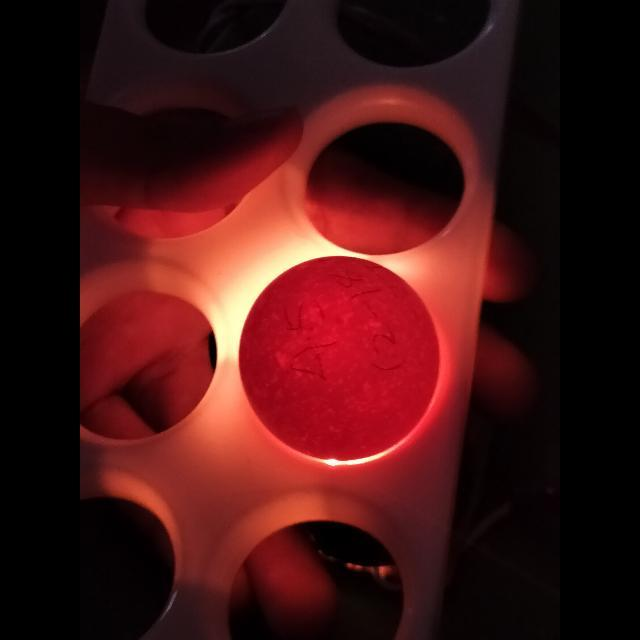Infertile: (247, 255, 436, 458)
